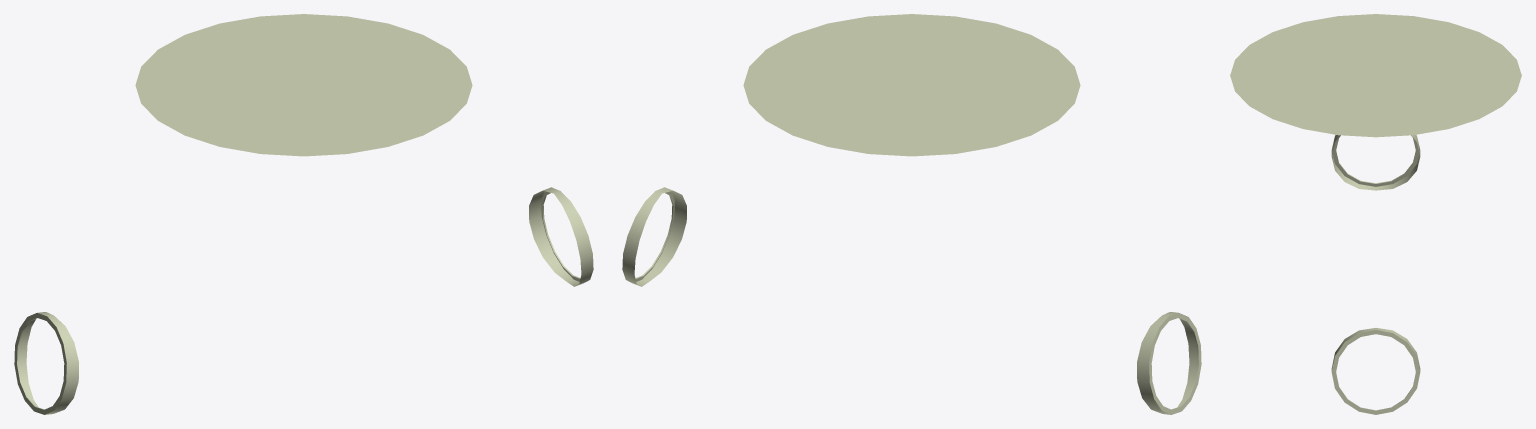
Rendered from Tantares_Crew_1_Interior_Mask.obj.
The picture shows the model from 3 angles, left to right: view 1: azimuth 30°, elevation 25°; view 2: azimuth 150°, elevation 25°; view 3: azimuth 270°, elevation 25°; orthographic projection. The views are drawn at different scales.
Visible parts, largest first — view 1: Tantares_Crew_1_Interior_Mask; view 2: Tantares_Crew_1_Interior_Mask; view 3: Tantares_Crew_1_Interior_Mask.
Boxes of the visible parts, x1,y1,x2,y2 form: Tantares_Crew_1_Interior_Mask: (14,14,593,414); Tantares_Crew_1_Interior_Mask: (622,14,1201,414); Tantares_Crew_1_Interior_Mask: (1230,14,1521,414).
Bounding box in the file's own units: 1.14 × 0.5272 × 0.6167.
